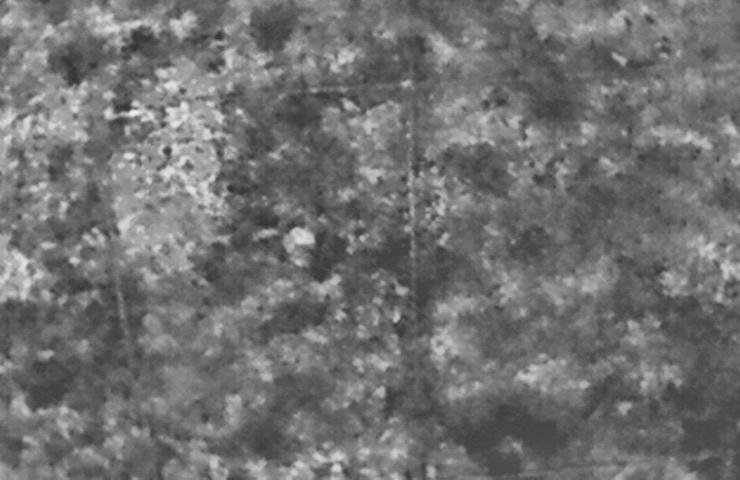landmines: (282, 228, 320, 256)
